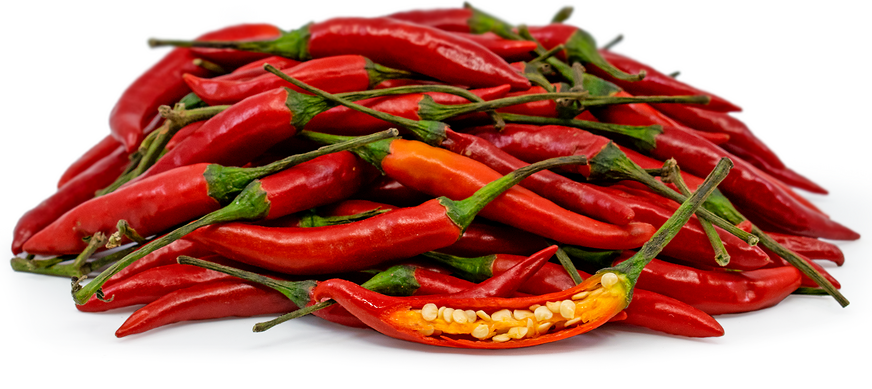Cabai: (129, 24, 792, 368)
